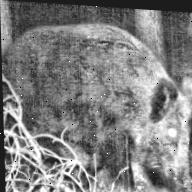boar: (3, 11, 192, 191)
